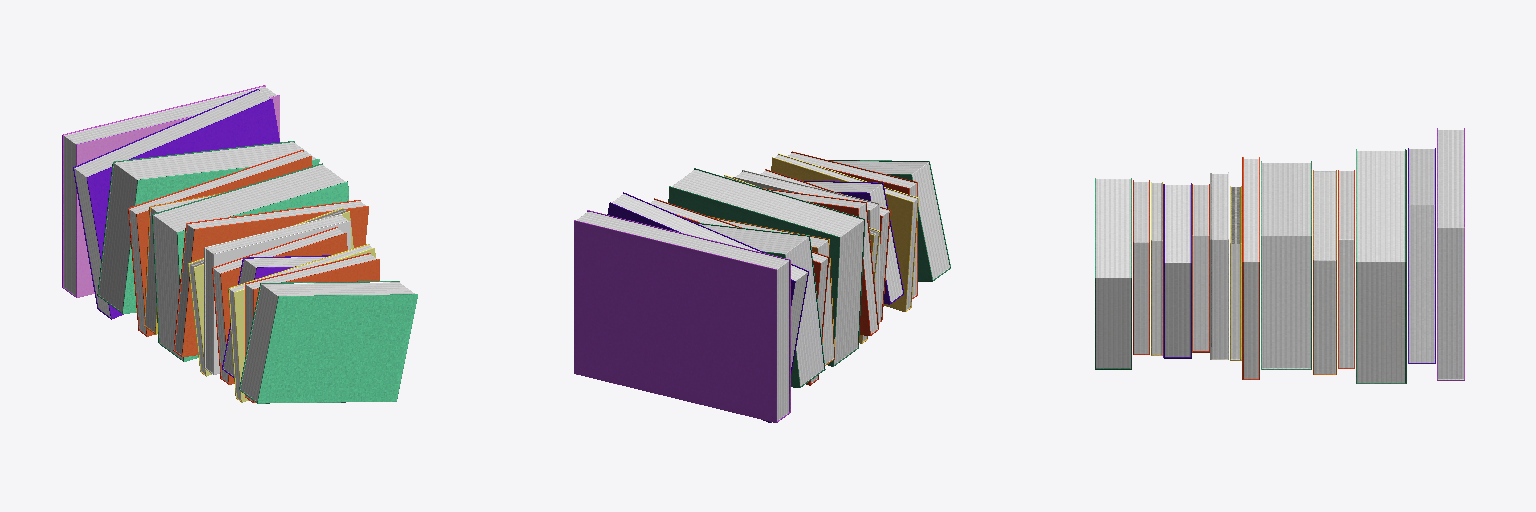
The picture shows the model from 3 angles: view 1: azimuth 30°, elevation 25°; view 2: azimuth 150°, elevation 25°; view 3: azimuth 270°, elevation 25°; orthographic projection.
Visible parts, largest first — view 1: 10267_Books_Paperback; view 2: 10267_Books_Paperback; view 3: 10267_Books_Paperback.
Boxes of the visible parts, x1,y1,x2,y2 form: 10267_Books_Paperback: [62, 85, 417, 403]; 10267_Books_Paperback: [574, 151, 950, 422]; 10267_Books_Paperback: [1095, 128, 1464, 383].
Size of the model in its own units: 11.04 by 9.11 by 16.8.
Materials: 1 (1 with a texture image).